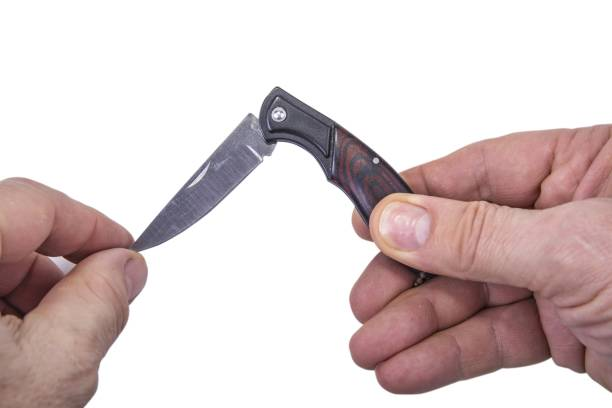knife: (127, 109, 279, 255)
